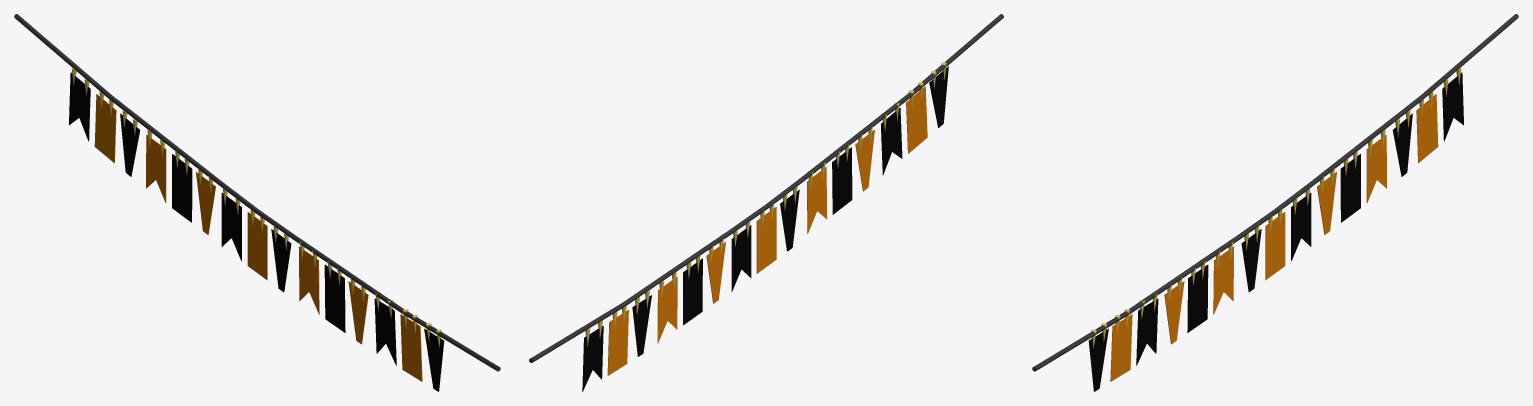
The model's file is Pennants_B_O.fbx.
3 renders of one model, left to right at view 1: azimuth 30°, elevation 25°; view 2: azimuth 150°, elevation 25°; view 3: azimuth 330°, elevation 25°, orthographic. The views are drawn at different scales.
Visible parts, largest first — view 1: Pennant_B_O; view 2: Pennant_B_O; view 3: Pennant_B_O.
Boxes of the visible parts, x1,y1,x2,y2 form: Pennant_B_O: [14, 14, 500, 391]; Pennant_B_O: [529, 14, 1003, 391]; Pennant_B_O: [1032, 14, 1518, 391].
Bounding box in the file's own units: 18.91 × 304 × 3223.
